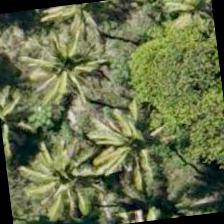Kelapa_Sawit: (80, 98, 180, 198), (20, 4, 120, 104), (3, 135, 102, 223), (140, 0, 218, 54)
